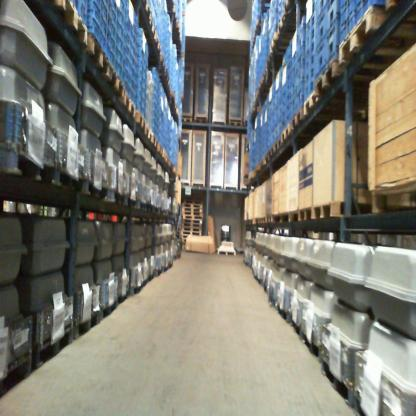pallet: (338, 4, 416, 65), (1, 139, 59, 186), (314, 59, 385, 95), (34, 323, 73, 367), (321, 357, 354, 406), (53, 0, 87, 44), (0, 350, 32, 395), (371, 186, 416, 214), (311, 200, 367, 220), (86, 33, 110, 76), (74, 309, 100, 341), (59, 165, 86, 193), (106, 64, 125, 99), (86, 178, 111, 202), (303, 332, 323, 359), (277, 14, 297, 37), (304, 88, 321, 115), (270, 32, 290, 54), (120, 90, 136, 117), (100, 299, 118, 320), (354, 393, 370, 416), (290, 106, 304, 129), (291, 315, 303, 337), (278, 304, 291, 323), (111, 189, 125, 206), (135, 110, 146, 130), (118, 287, 130, 305), (281, 123, 292, 142), (141, 0, 151, 20), (384, 0, 399, 12), (299, 207, 311, 221), (149, 17, 156, 40), (125, 195, 137, 208), (144, 124, 152, 142), (155, 33, 161, 56), (283, 0, 292, 15), (217, 249, 236, 256), (274, 138, 282, 153), (137, 200, 147, 212), (270, 296, 278, 309), (182, 202, 202, 207), (182, 207, 202, 212), (183, 215, 203, 220), (183, 219, 203, 224), (181, 231, 201, 236), (152, 135, 159, 148), (182, 212, 203, 216), (181, 227, 202, 231), (182, 223, 202, 227), (268, 146, 274, 159), (157, 143, 163, 155), (146, 204, 154, 213), (194, 119, 208, 124), (229, 121, 243, 126), (254, 163, 261, 173), (248, 171, 256, 178), (182, 117, 192, 122), (162, 149, 166, 161), (266, 216, 273, 222), (181, 234, 187, 239), (262, 216, 266, 223), (258, 218, 262, 223), (243, 122, 247, 127), (181, 238, 186, 242), (181, 242, 186, 246), (182, 246, 186, 250)
small_load_carrier: (326, 19, 341, 66), (314, 38, 327, 79), (315, 5, 326, 53), (326, 0, 340, 34), (314, 1, 326, 15)
